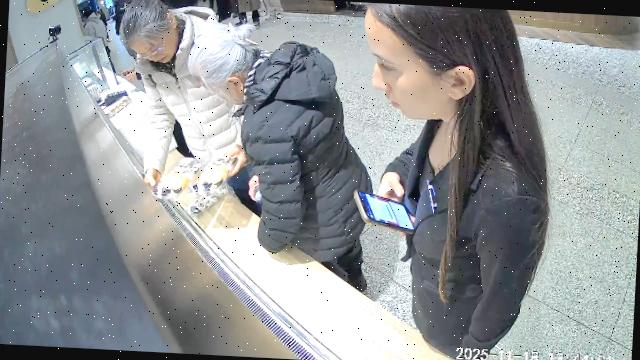sushi-box: (188, 146, 238, 196), (154, 156, 205, 199), (184, 183, 233, 219), (105, 94, 133, 118)
